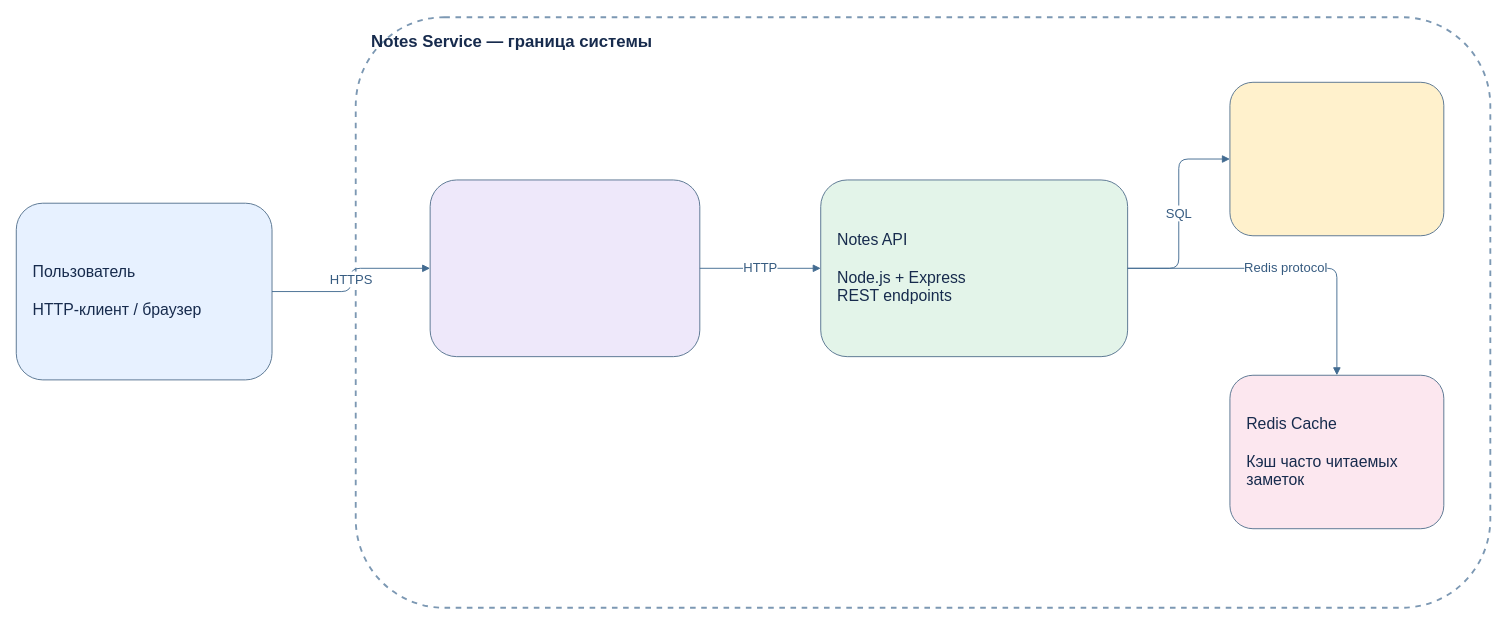
Image size: 1508x624. Some labels were removed from this diagram. Each missing label, with the centre of its shape:
"API Gateway (Nginx) Единая точка входа, маршрутизация запросов" belongs at pixel 564 268.
"PostgreSQL Постоянное хранение таблицы notes" belongs at pixel 1336 158.
